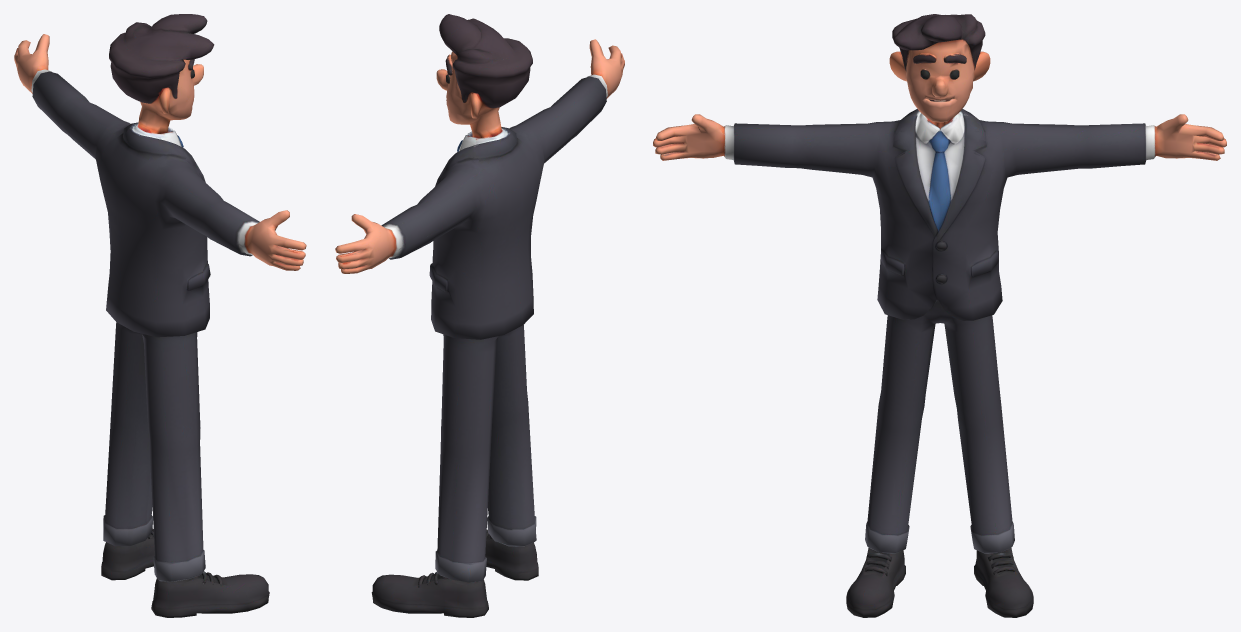
3 views of the same model, side by side, from view 1: azimuth 30°, elevation 25°; view 2: azimuth 150°, elevation 25°; view 3: azimuth 270°, elevation 25° (orthographic). The views are drawn at different scales.
Parts seen in each view (by area): view 1: tripo_node_3324aa0d-2ed5-4497-b7c2-fa122fc7c055; view 2: tripo_node_3324aa0d-2ed5-4497-b7c2-fa122fc7c055; view 3: tripo_node_3324aa0d-2ed5-4497-b7c2-fa122fc7c055.
Part boxes in pixels (x1,y1,x2,y2): tripo_node_3324aa0d-2ed5-4497-b7c2-fa122fc7c055: [14, 14, 306, 617]; tripo_node_3324aa0d-2ed5-4497-b7c2-fa122fc7c055: [335, 14, 624, 617]; tripo_node_3324aa0d-2ed5-4497-b7c2-fa122fc7c055: [653, 14, 1226, 617].
Bounding box in the file's own units: 0.2168 × 0.998 × 0.9043.
Materials: 1 (1 with a texture image).
